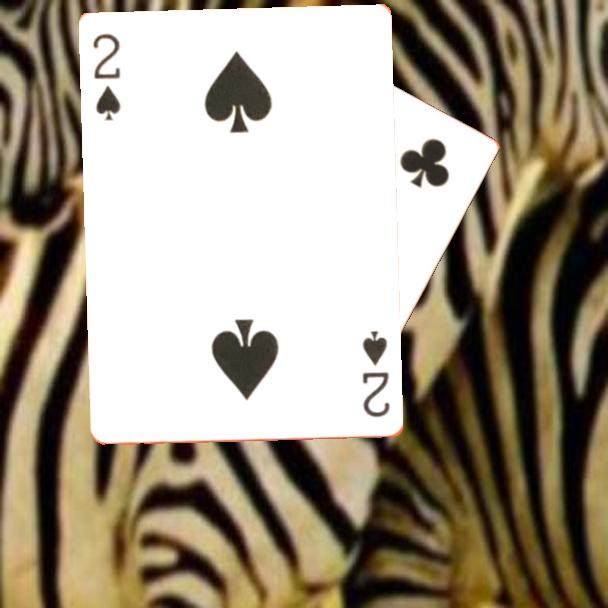s02: (90, 30, 124, 124), (359, 327, 393, 420)
